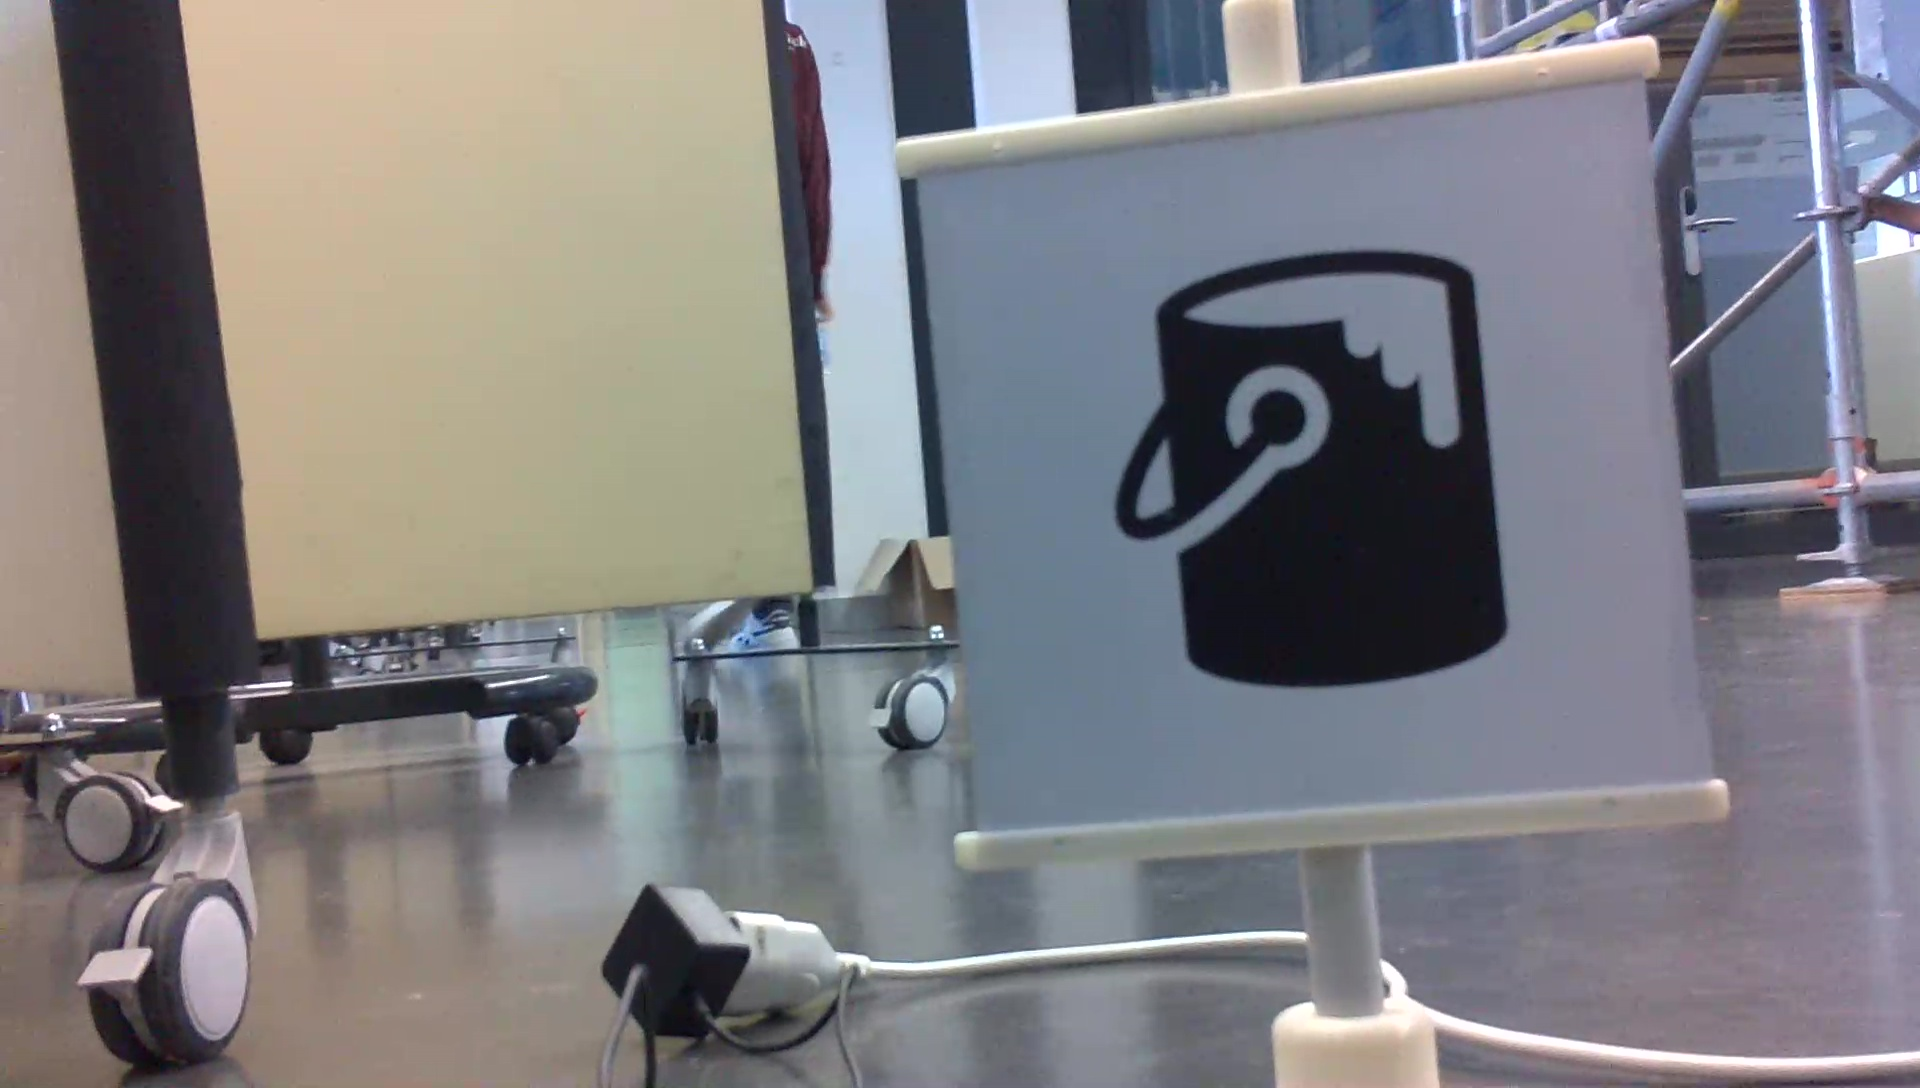bucket: (1105, 235, 1520, 698)
